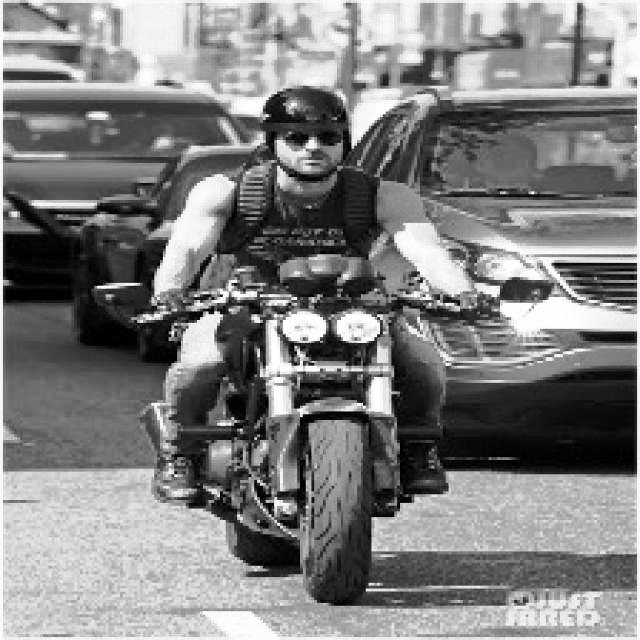Bike: (198, 281, 442, 605)
